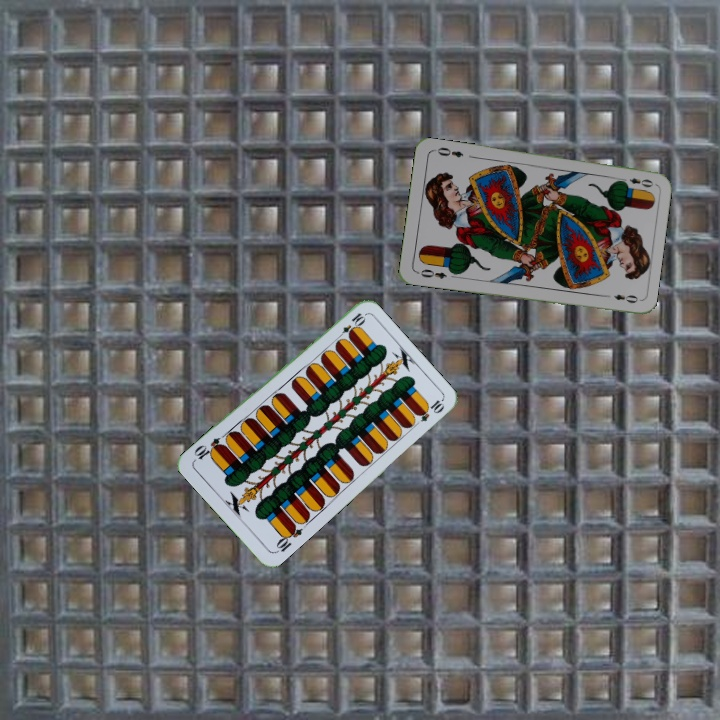E10: (271, 520, 305, 556), (333, 309, 367, 343)
EO: (616, 174, 656, 190), (413, 265, 449, 281)
